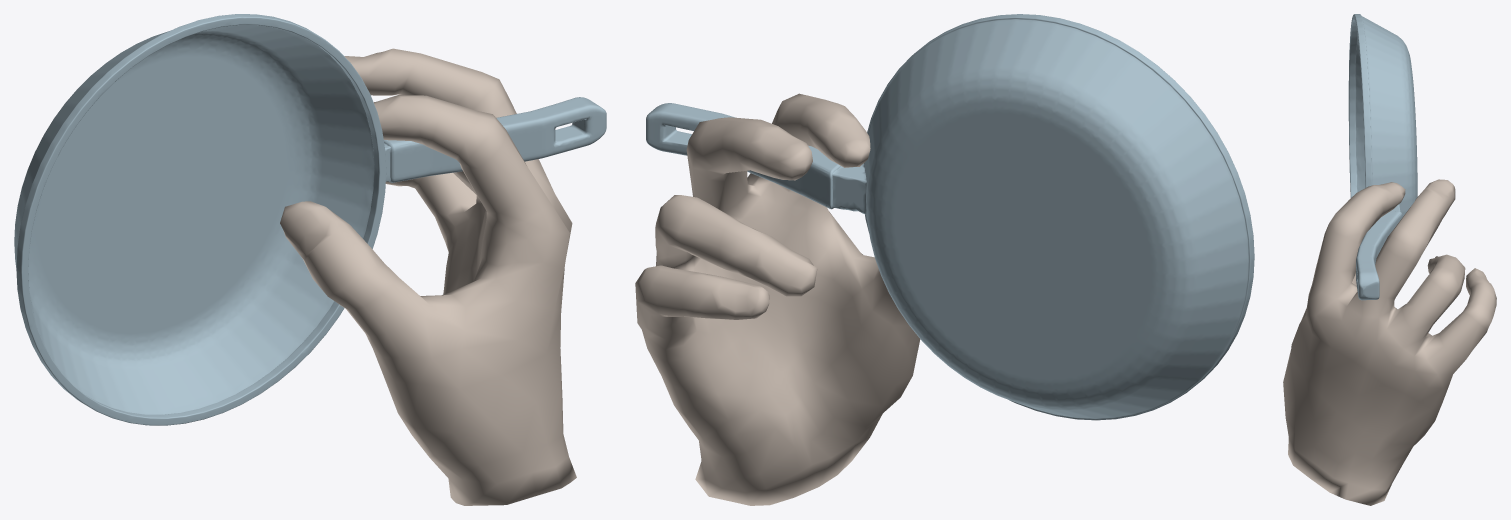
The model's file is ours_1.glb.
The picture shows the model from 3 angles, left to right: view 1: azimuth 30°, elevation 25°; view 2: azimuth 150°, elevation 25°; view 3: azimuth 270°, elevation 25°; orthographic projection. The views are drawn at different scales.
Size of the model in its own units: 0.236 by 0.207 by 0.1099.
